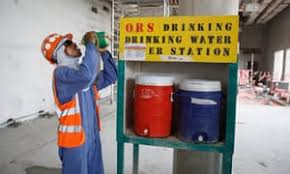helmet: (37, 32, 70, 61)
vest: (49, 68, 107, 144)
